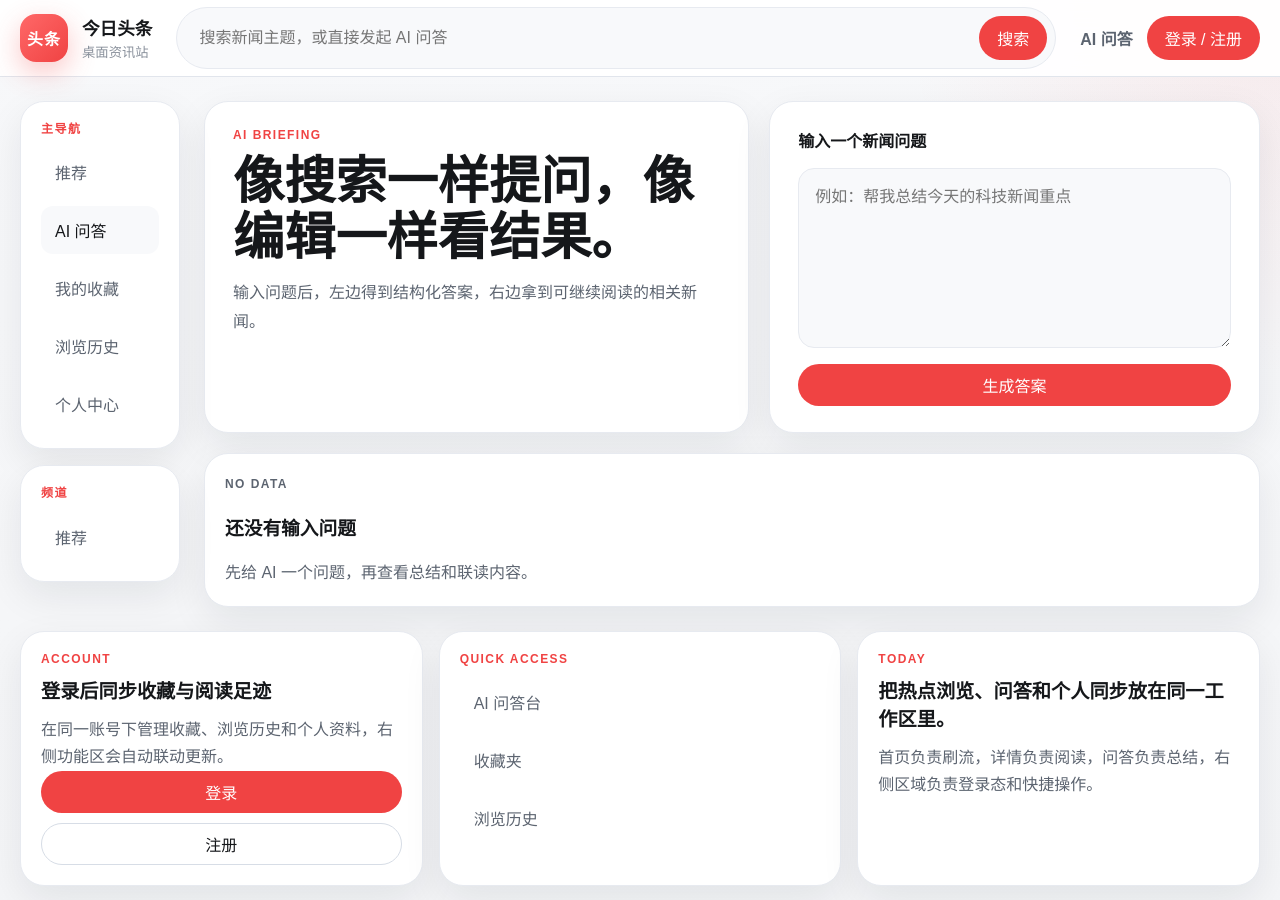
Scenario: AskPage › submits a query, syncs it into the url, and renders the answer
Type "半导体" into the text box labelled "输入一个新闻问题".
click(1015, 258); type("半导体")  # box x1=798 y1=168 x2=1231 y2=348
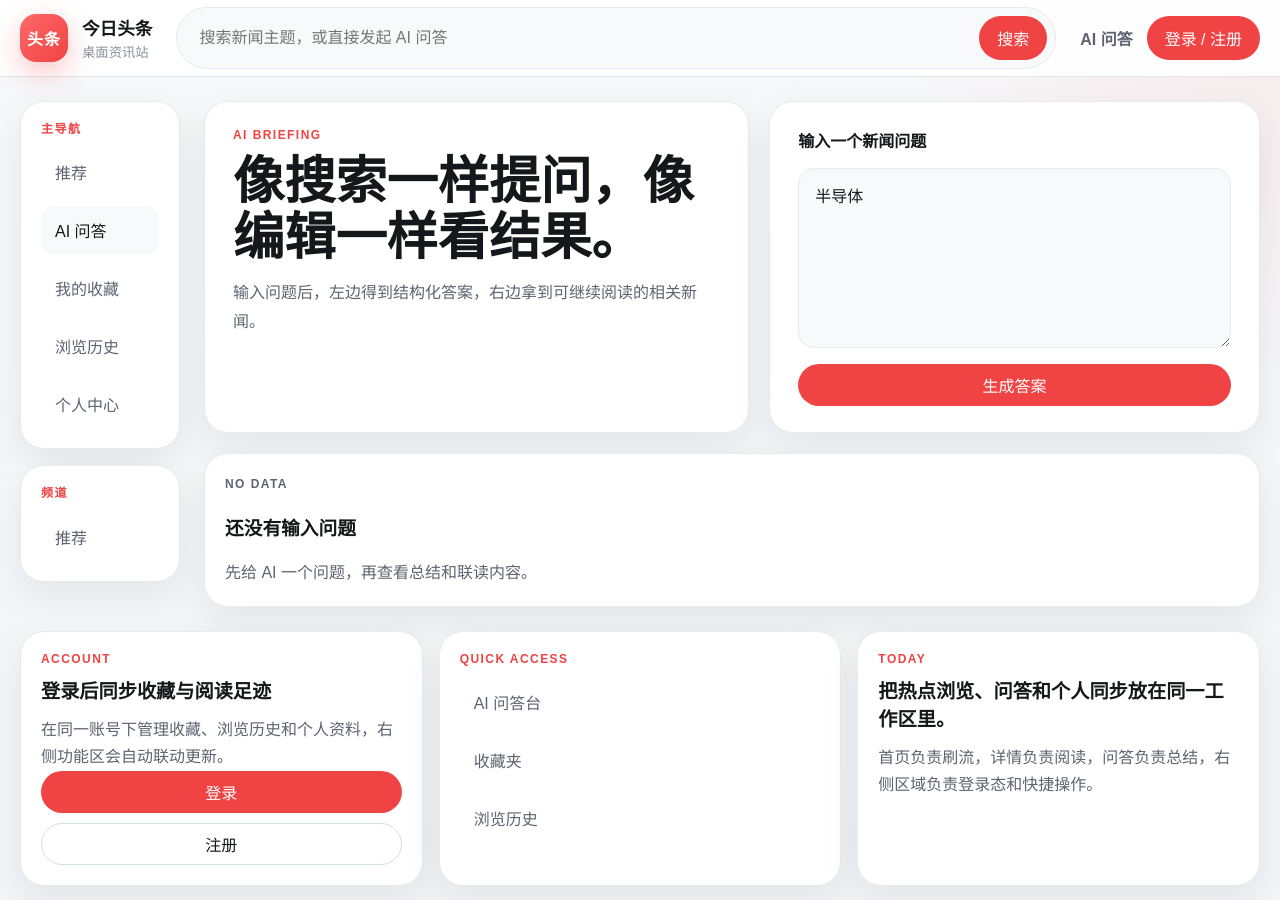
Click the button "生成答案".
click(1015, 385)  # box x1=798 y1=364 x2=1231 y2=406
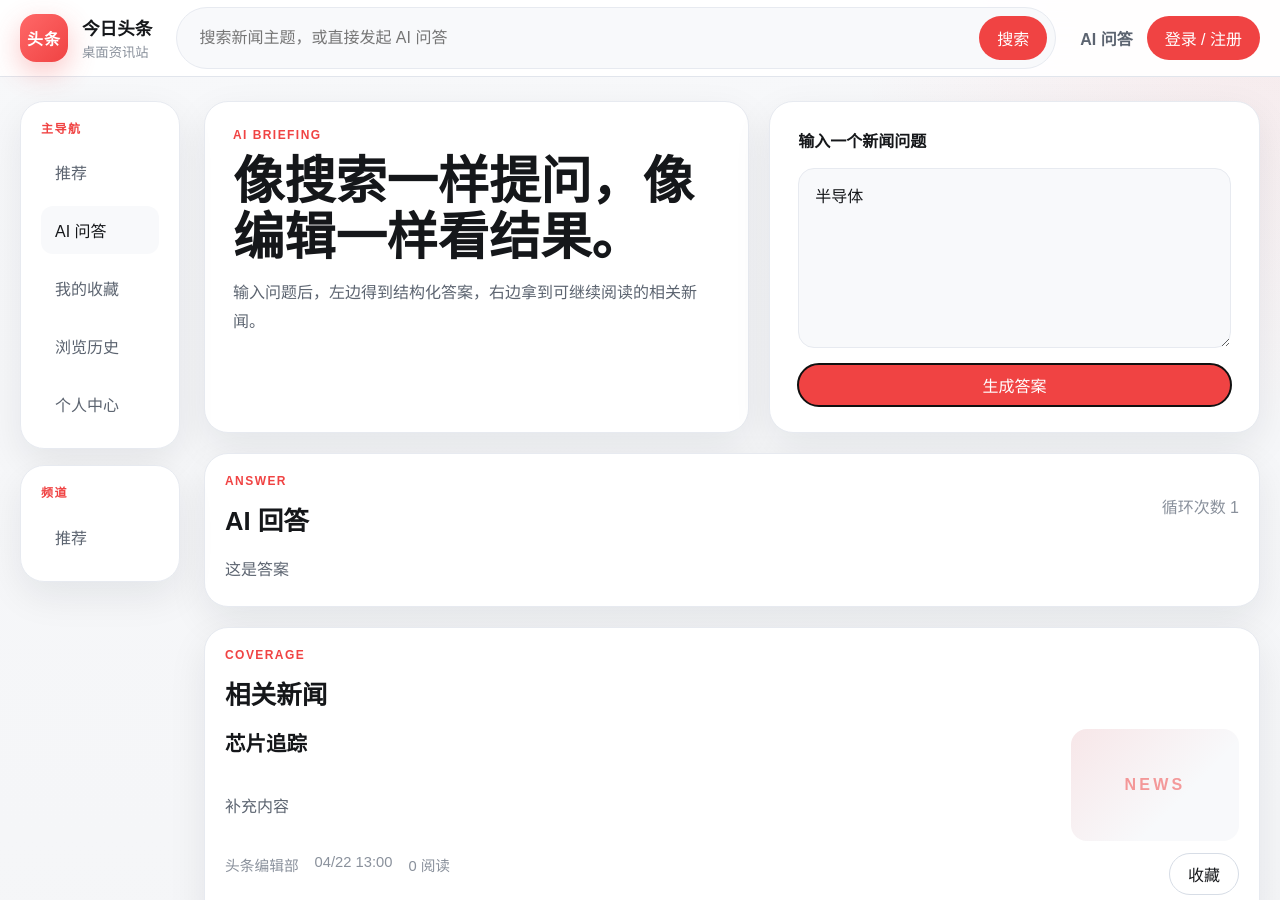
Result: the text "这是答案" is shown at x1=225 y1=561 x2=289 y2=578
Result: the link "芯片追踪" is shown at x1=225 y1=732 x2=307 y2=755
